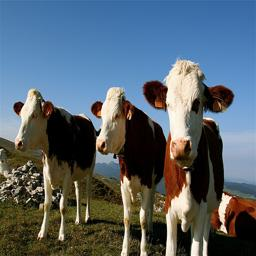cow: (27, 115, 191, 256), (166, 74, 256, 256), (179, 114, 256, 256), (212, 225, 256, 256)
